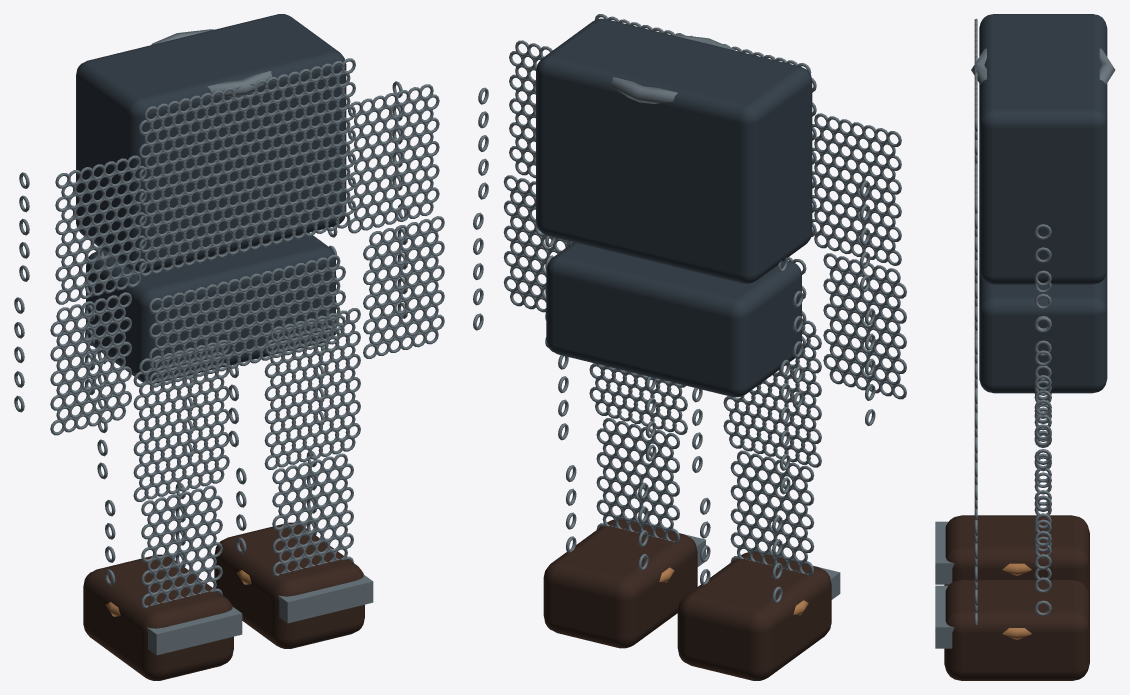
File: armor-chainmail.glb
The picture shows the model from 3 angles, left to right: view 1: azimuth 30°, elevation 25°; view 2: azimuth 150°, elevation 25°; view 3: azimuth 270°, elevation 25°; orthographic projection. The views are drawn at different scales.
Visible parts, largest first — view 1: chainmail-ring (×10), chainmail-underlayer (×2), leather-boot (×2), boot-toe-cap (×2), chainmail-side-ring (×6), chainmail-neck-ring; view 2: chainmail-underlayer (×2), chainmail-ring (×9), leather-boot (×2), chainmail-side-ring (×8), chainmail-neck-ring; view 3: chainmail-underlayer (×2), leather-boot (×2), chainmail-side-ring (×5), chainmail-ring (×4), boot-toe-cap (×2), chainmail-neck-ring.
Boxes of the visible parts, x1,y1,x2,y2 form: chainmail-ring (×10): (50, 58, 444, 608); chainmail-underlayer (×2): (76, 14, 346, 383); leather-boot (×2): (83, 522, 364, 680); boot-toe-cap (×2): (147, 575, 373, 655); chainmail-side-ring (×6): (14, 172, 324, 585); chainmail-neck-ring: (151, 29, 272, 97); chainmail-underlayer (×2): (536, 18, 812, 397); chainmail-ring (×9): (503, 14, 906, 575); leather-boot (×2): (543, 519, 831, 680); chainmail-side-ring (×8): (473, 87, 875, 603); chainmail-neck-ring: (611, 34, 735, 103); chainmail-underlayer (×2): (979, 14, 1107, 393); leather-boot (×2): (944, 515, 1089, 680); chainmail-side-ring (×5): (1034, 224, 1051, 615); chainmail-ring (×4): (974, 18, 977, 625); boot-toe-cap (×2): (935, 521, 954, 648); chainmail-neck-ring: (971, 48, 1115, 84).
Bounding box in the file's own units: 0.782 × 1.08 × 0.309.
